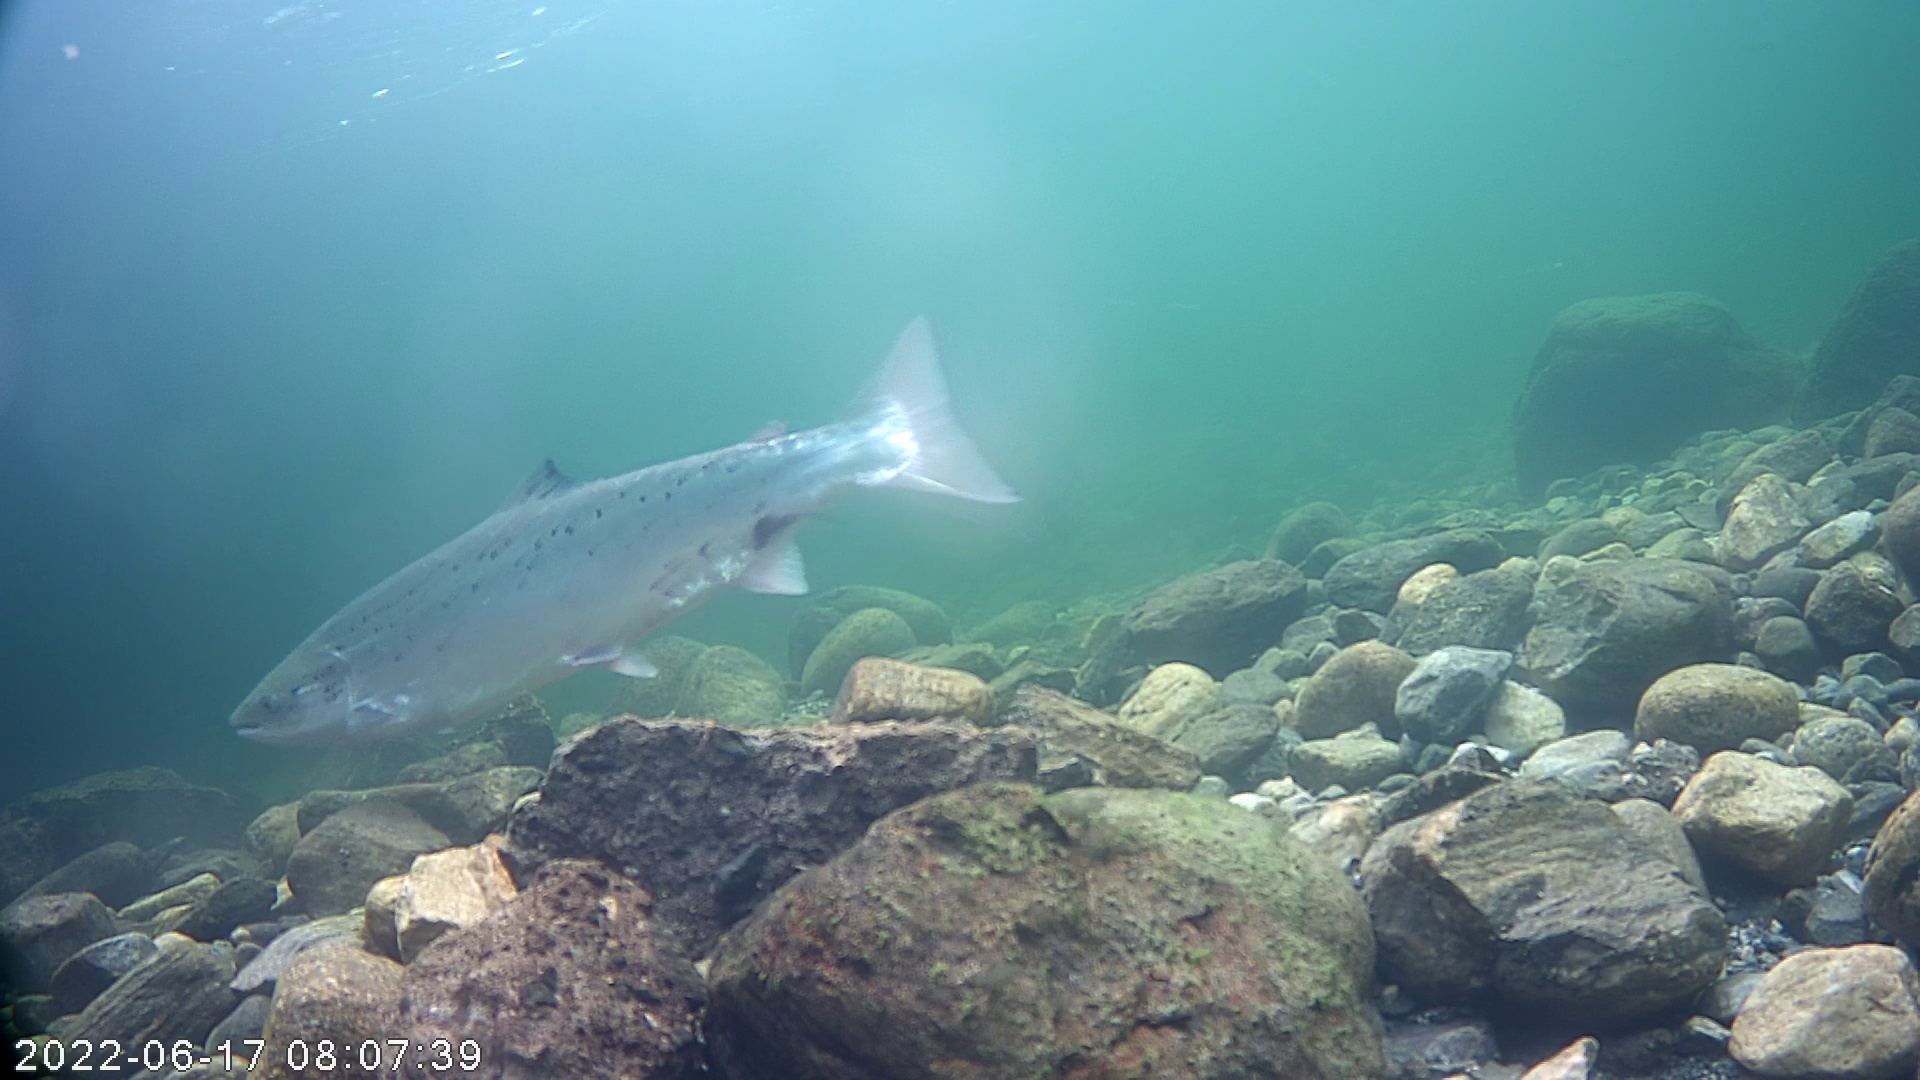salmon: (222, 302, 1027, 758)
